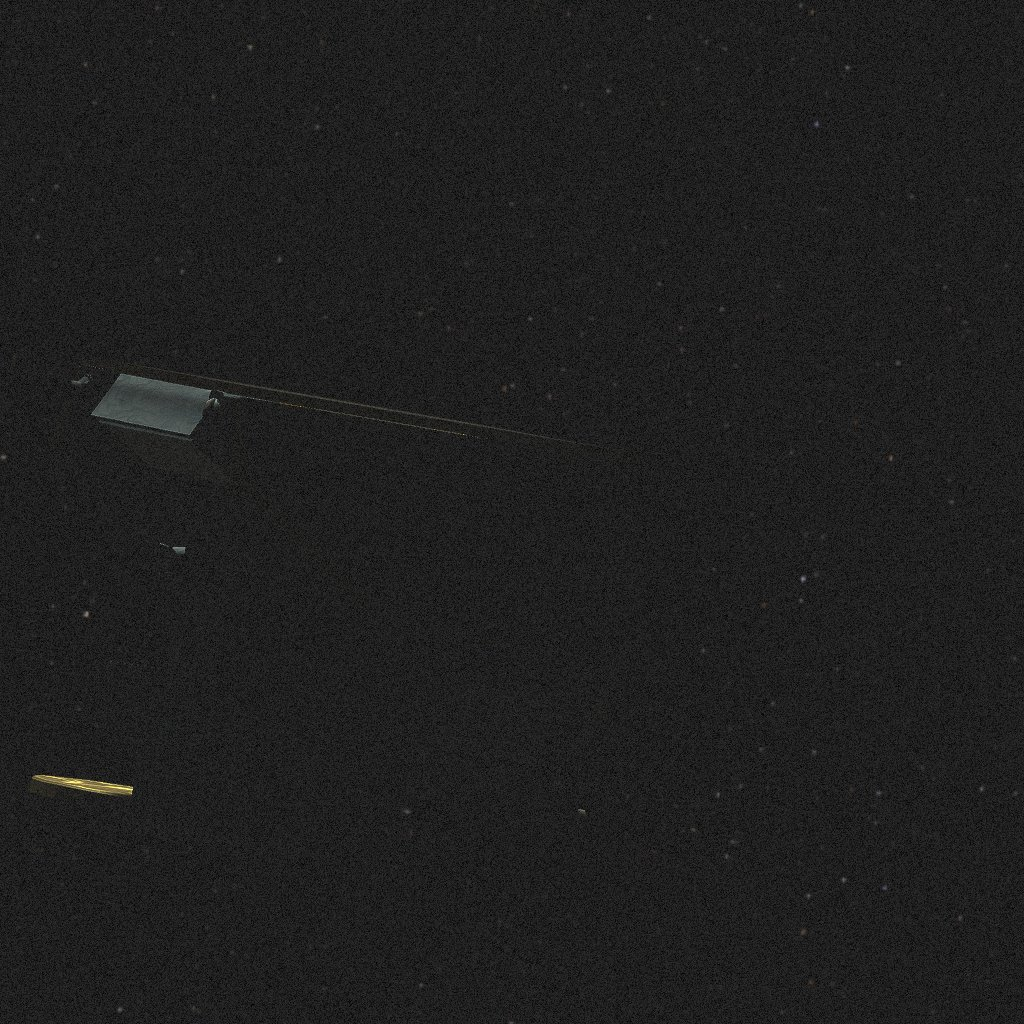cheops: (28, 356, 647, 857)
